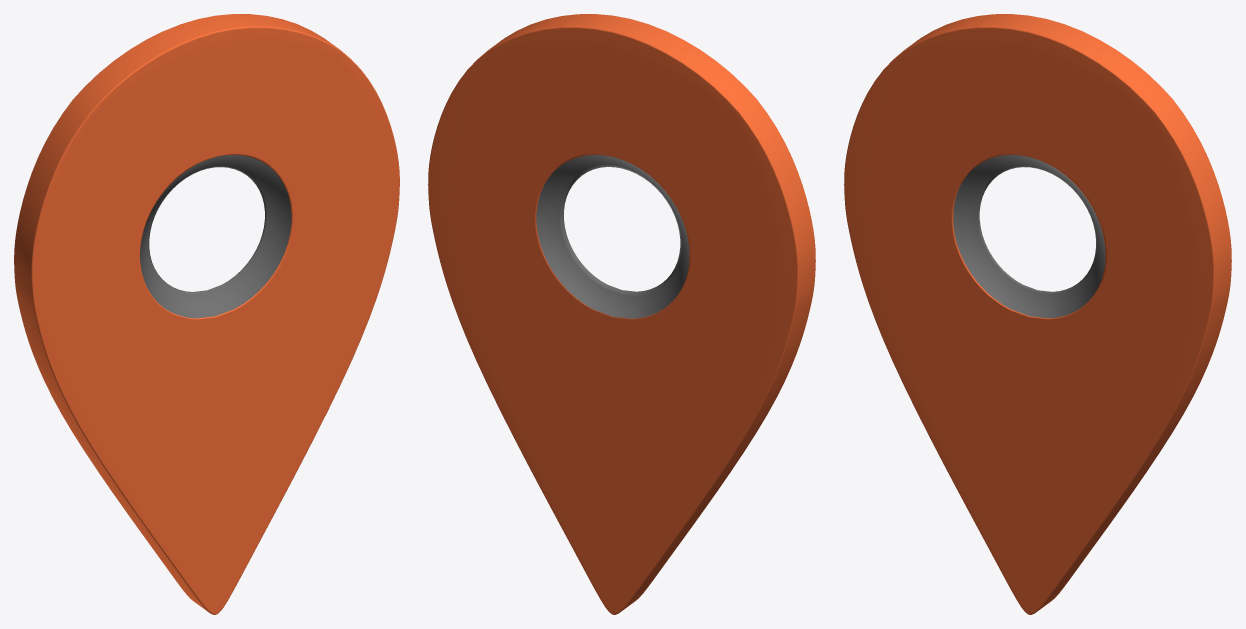
File: map_pointer.glb
3 renders of one model, left to right at view 1: azimuth 30°, elevation 25°; view 2: azimuth 150°, elevation 25°; view 3: azimuth 330°, elevation 25°, orthographic.
Parts seen in each view (by area): view 1: Plane; view 2: Plane; view 3: Plane.
Boxes of the visible parts, x1,y1,x2,y2 form: Plane: [14, 14, 399, 614]; Plane: [428, 14, 815, 614]; Plane: [844, 14, 1231, 614].
Size of the model in its own units: 2.66 by 4.02 by 0.2401.
